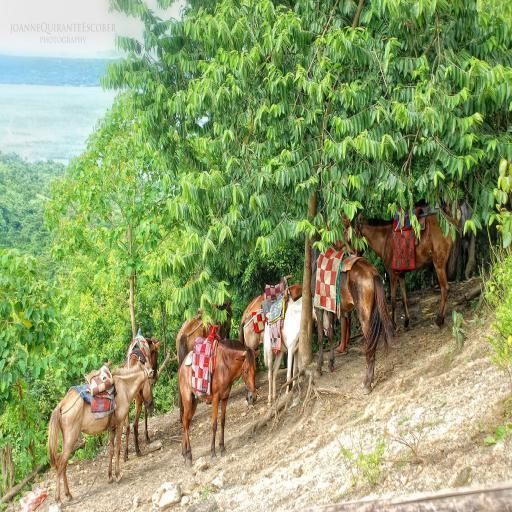horse: (44, 360, 154, 511), (340, 212, 467, 338), (310, 230, 398, 394), (177, 336, 259, 468), (262, 280, 334, 407), (236, 275, 294, 408), (175, 298, 233, 421), (126, 335, 162, 456)
